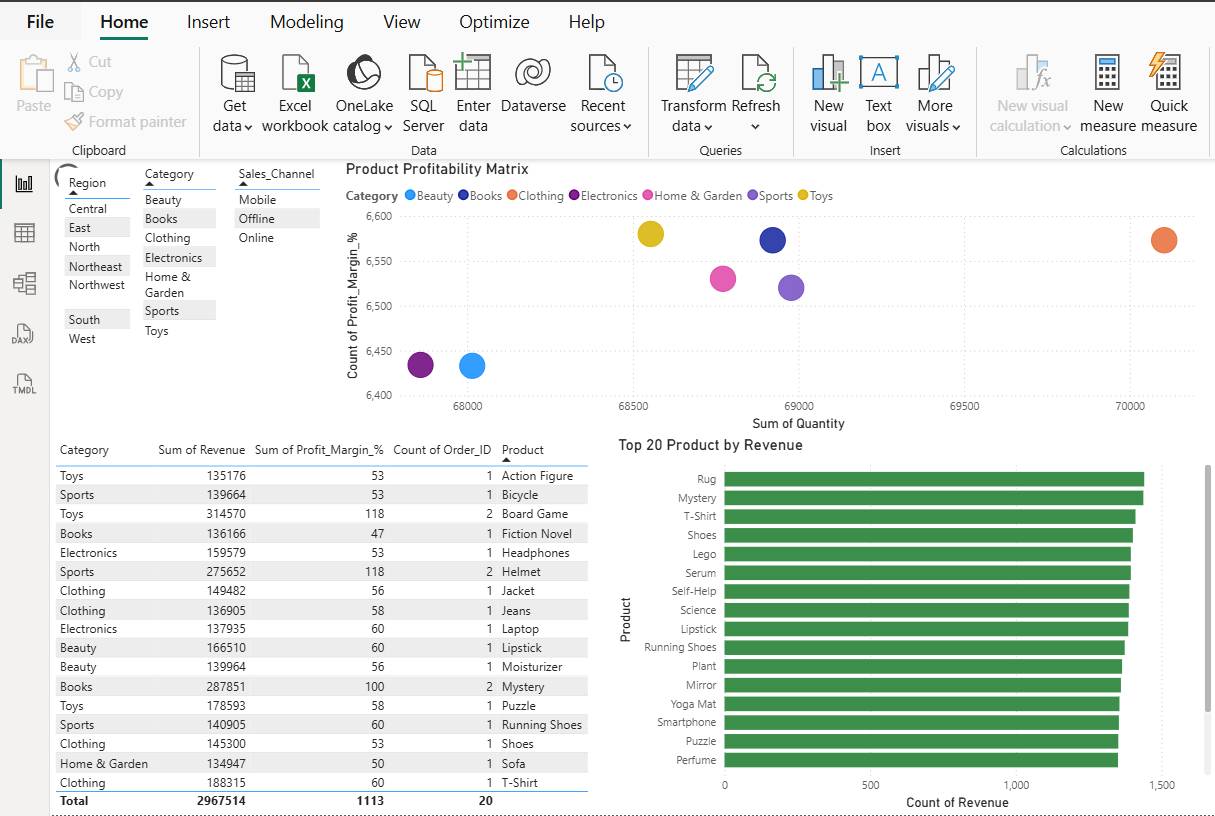

Layout of this report page (visuals, bound fields, positions):
{"tool":"powerbi","page":{"name":"Product Performance ","canvas":[1280,720],"ordinal":3},"visuals":[{"type":"clusteredBarChart","title":"Top 20 Product by Revenue ","fields":{"Category":["Sales_Data.Product"],"Y":["CountNonNull(Sales_Data.Revenue)"]},"box":[618.6,303.6,661.4,416.2],"z":0},{"type":"scatterChart","title":"Product Profitability Matrix ","fields":{"X":["Sum(Sales_Data.Quantity)"],"Size":["CountNonNull(Sales_Data.Revenue)"],"Series":["Sales_Data.Category"],"Y":["CountNonNull(Sales_Data.Profit_Margin_%)"]},"box":[319.7,0,960.6,303.3],"z":1000},{"type":"tableEx","fields":{"Values":["Sales_Data.Category","Sum(Sales_Data.Revenue)","Sum(Sales_Data.Profit_Margin_%)","Sales_Data.Order_ID","Sales_Data.Product"]},"box":[0,303.6,618.6,416.2],"z":2000},{"type":"actionButton","box":[0,0,100,40],"z":3000},{"type":"tableEx","fields":{"Values":["Sales_Data.Sales_Channel"]},"box":[196.7,0,124,144],"z":4000},{"type":"tableEx","fields":{"Values":["Sales_Data.Category"]},"box":[92.7,0,104.1,229.5],"z":5000},{"type":"tableEx","fields":{"Values":["Sales_Data.Region"]},"box":[10,10,92.7,206.7],"z":6000}]}

Visuals, with their boxes on the page's 1280x720 design canvas (x1, y1, x2, y2). These are canvas units, not pixel positions in the 1215x816 screenshot, which may show the page scaled, cropped or inside an application window:
"Top 20 Product by Revenue " clusteredBarChart: 619:304:1280:720
"Product Profitability Matrix " scatterChart: 320:0:1280:303
tableEx - Sales_Data.Category x Sum(Sales_Data.Revenue): 0:304:619:720
actionButton: 0:0:100:40
tableEx - Sales_Data.Sales_Channel: 197:0:321:144
tableEx - Sales_Data.Category: 93:0:197:230
tableEx - Sales_Data.Region: 10:10:103:217
